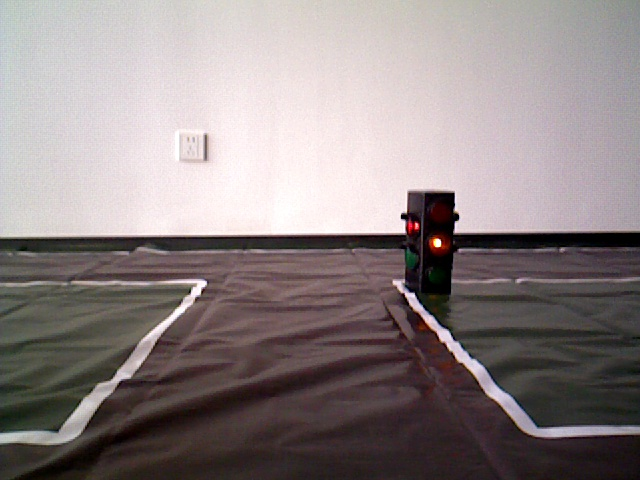yellow: (407, 195, 449, 290)
